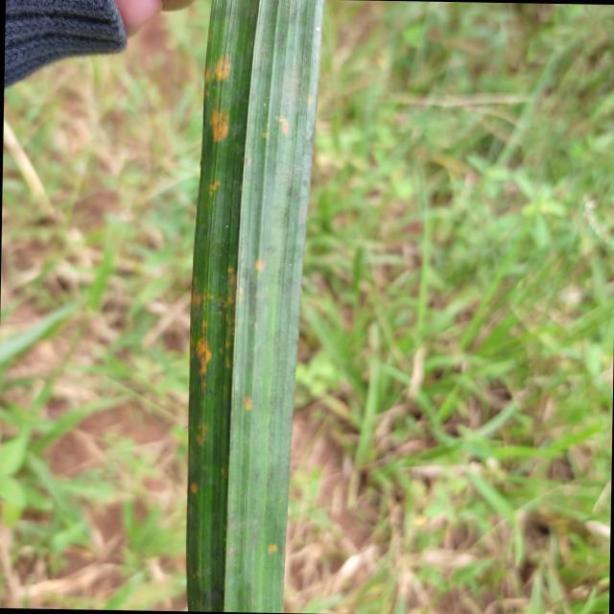Kalium: (182, 0, 323, 614)
